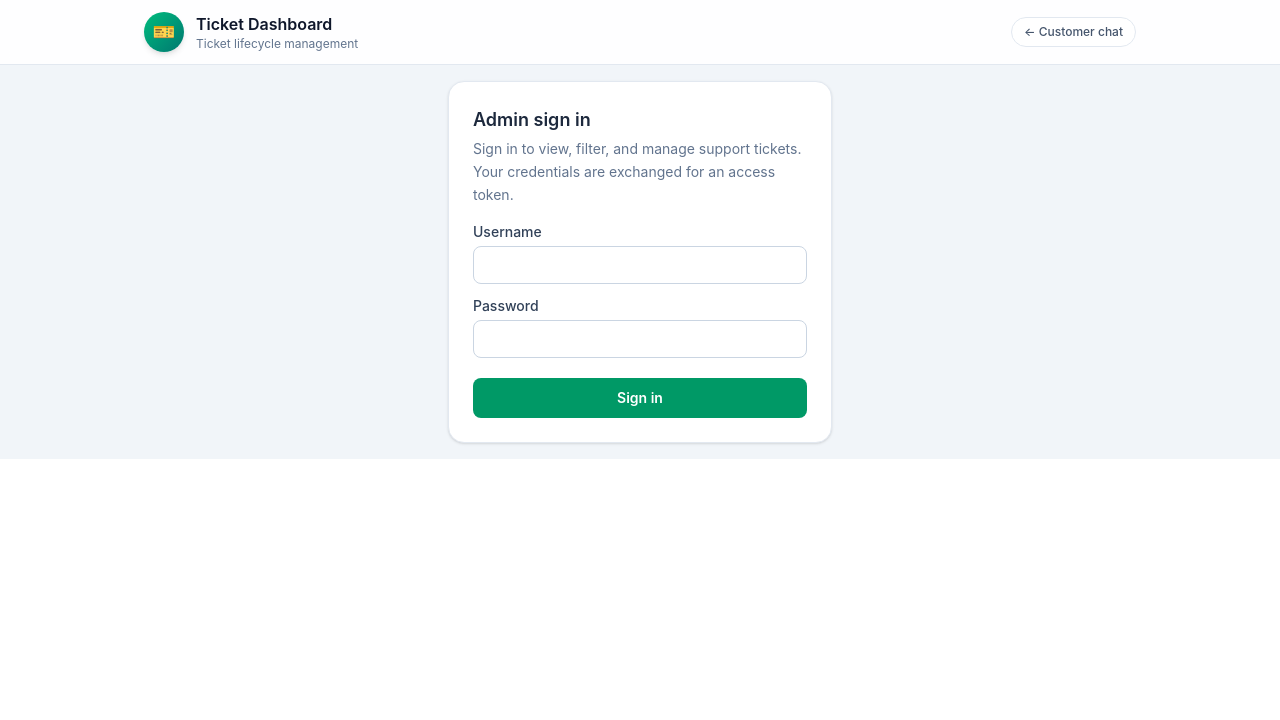
Test: TicketDashboard › paginates through the ticket list
The width and height of the screenshot is (1280, 720).
Type "admin" into the field labelled "Username" at (640, 265), box [473,246,807,284]
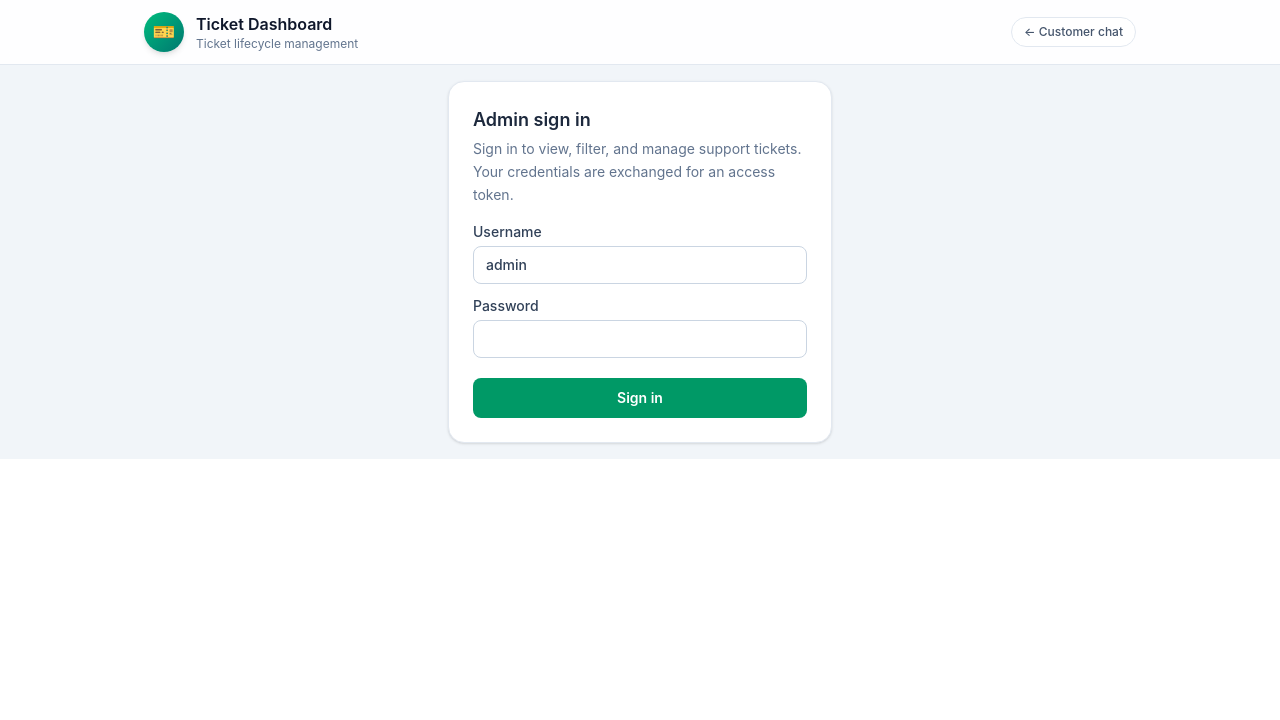
Type "admin123" into the password field labelled "Password" at (640, 339), box [473,320,807,358]
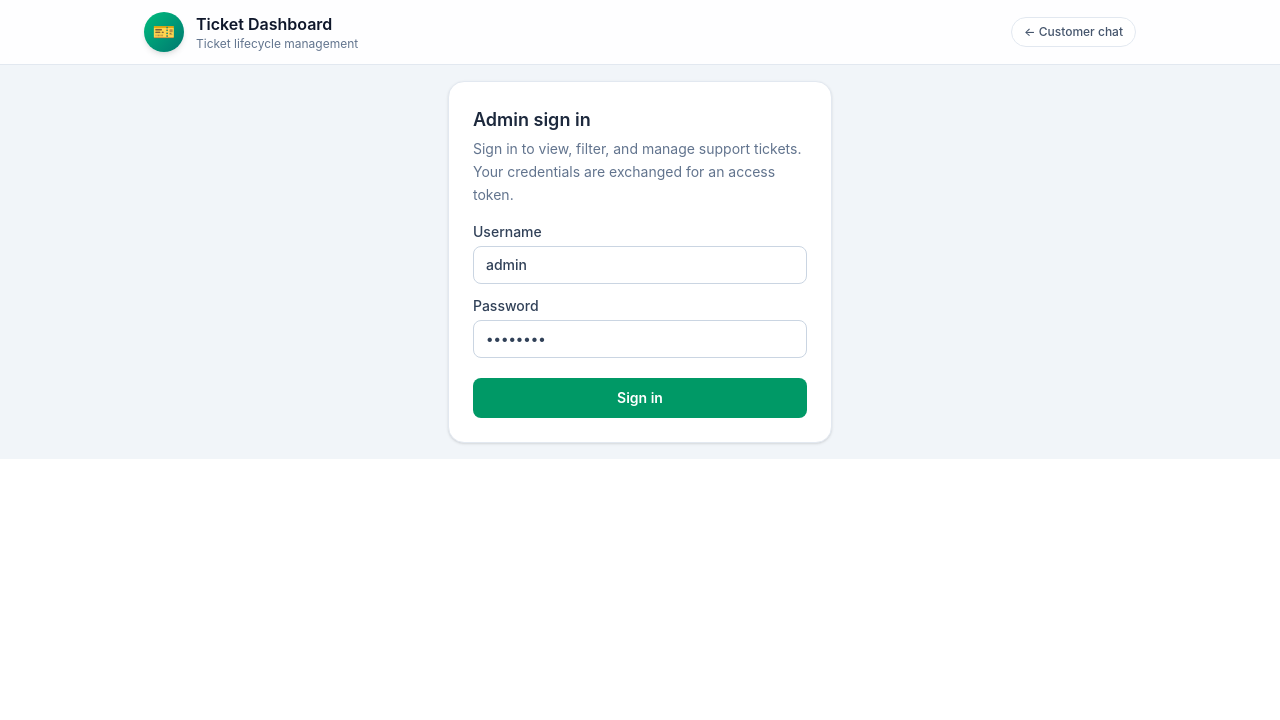
Submit the form, box [448,81,832,443]
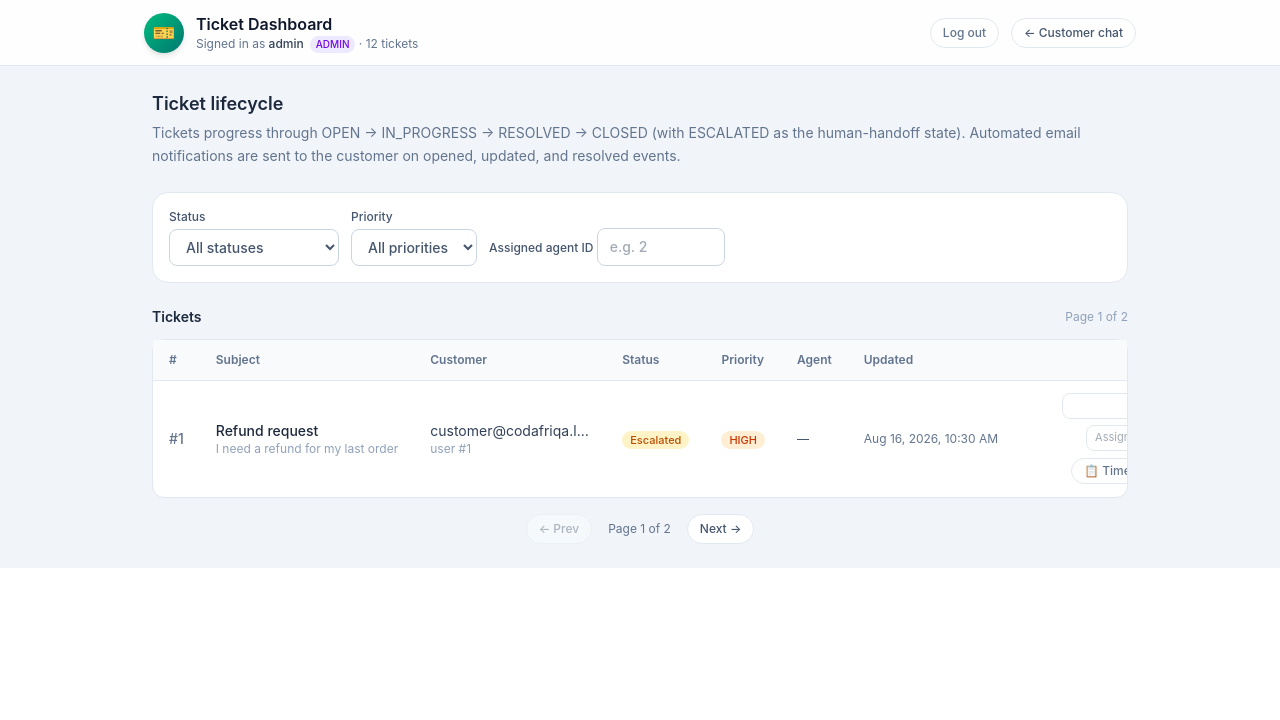
Expected: the text "Page 1 of 2" is shown, [1065,309,1128,325]
Click the button "Next →" at (721, 528), box [687,514,754,544]
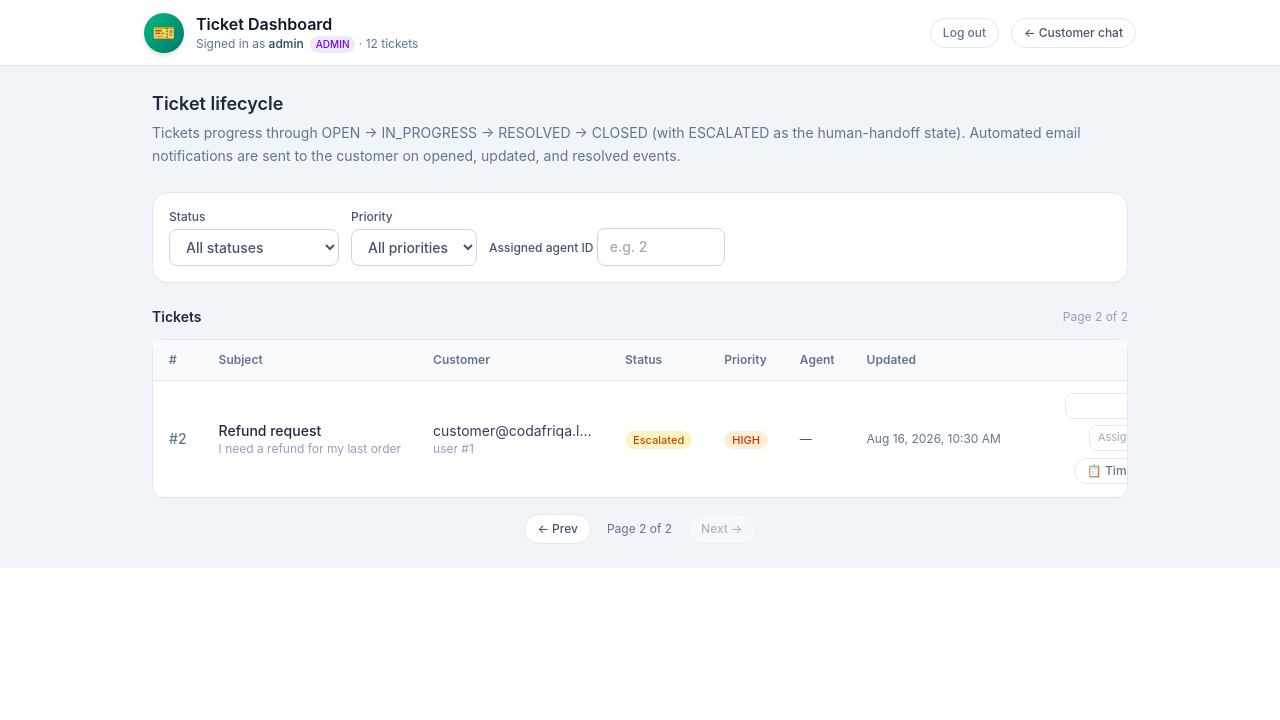
Expected: the text "Page 2 of 2" is shown, [1063,309,1128,325]
